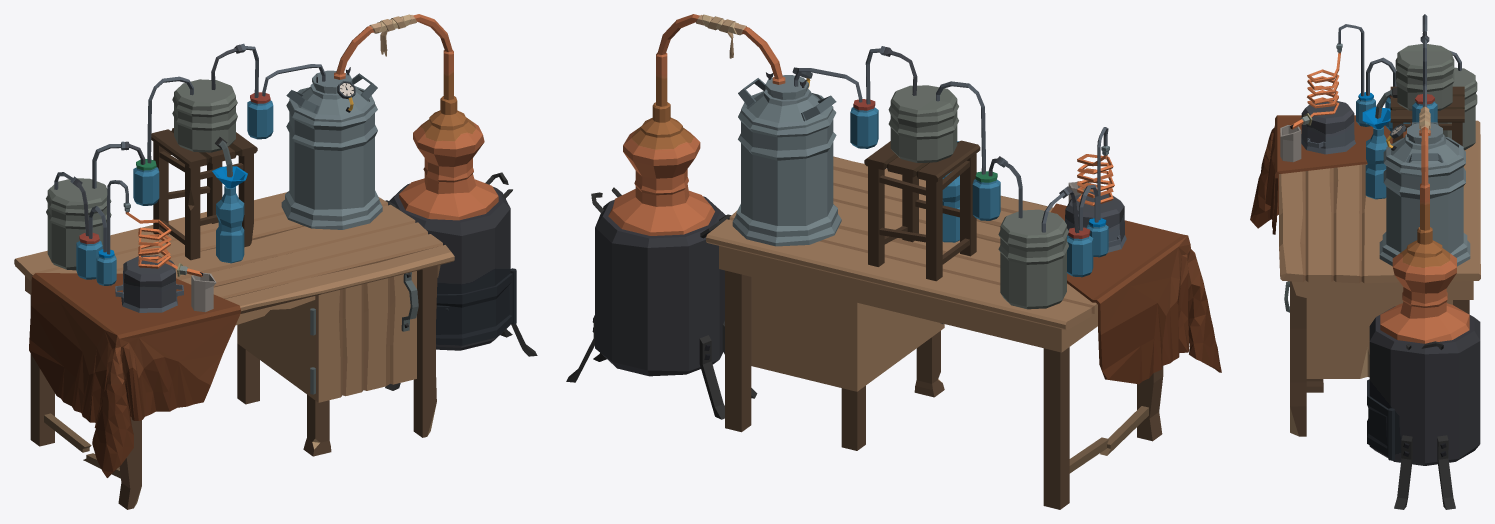
File: SM_Alchemist's_Table.fbx
3 renders of one model, left to right at view 1: azimuth 30°, elevation 25°; view 2: azimuth 150°, elevation 25°; view 3: azimuth 270°, elevation 25°, orthographic. The views are drawn at different scales.
Visible parts, largest first — view 1: SM_Alchemist's_Table, SM_Alchemical_Apparatus, SM_Alchemist's_Table_Door_Table, SM_Alchemist's_Table_Stove, SM_Alchemical_Botle; view 2: SM_Alchemical_Apparatus, SM_Alchemist's_Table, SM_Alchemical_Botle; view 3: SM_Alchemical_Apparatus, SM_Alchemist's_Table, SM_Alchemical_Botle, SM_Alchemist's_Table_Stove.
Boxes of the visible parts, x1,y1,x2,y2 form: SM_Alchemist's_Table: (14,192,454,509); SM_Alchemical_Apparatus: (46,14,537,390); SM_Alchemist's_Table_Door_Table: (315,271,418,402); SM_Alchemist's_Table_Stove: (436,268,516,345); SM_Alchemical_Botle: (212,166,247,263); SM_Alchemical_Apparatus: (566,14,1126,419); SM_Alchemist's_Table: (706,156,1221,509); SM_Alchemical_Botle: (942,141,959,242); SM_Alchemical_Apparatus: (1280,14,1480,509); SM_Alchemist's_Table: (1250,115,1480,436); SM_Alchemical_Botle: (1362,107,1391,199); SM_Alchemist's_Table_Stove: (1367,379,1394,460).
Size of the model in its own units: 314 by 217 by 132.
